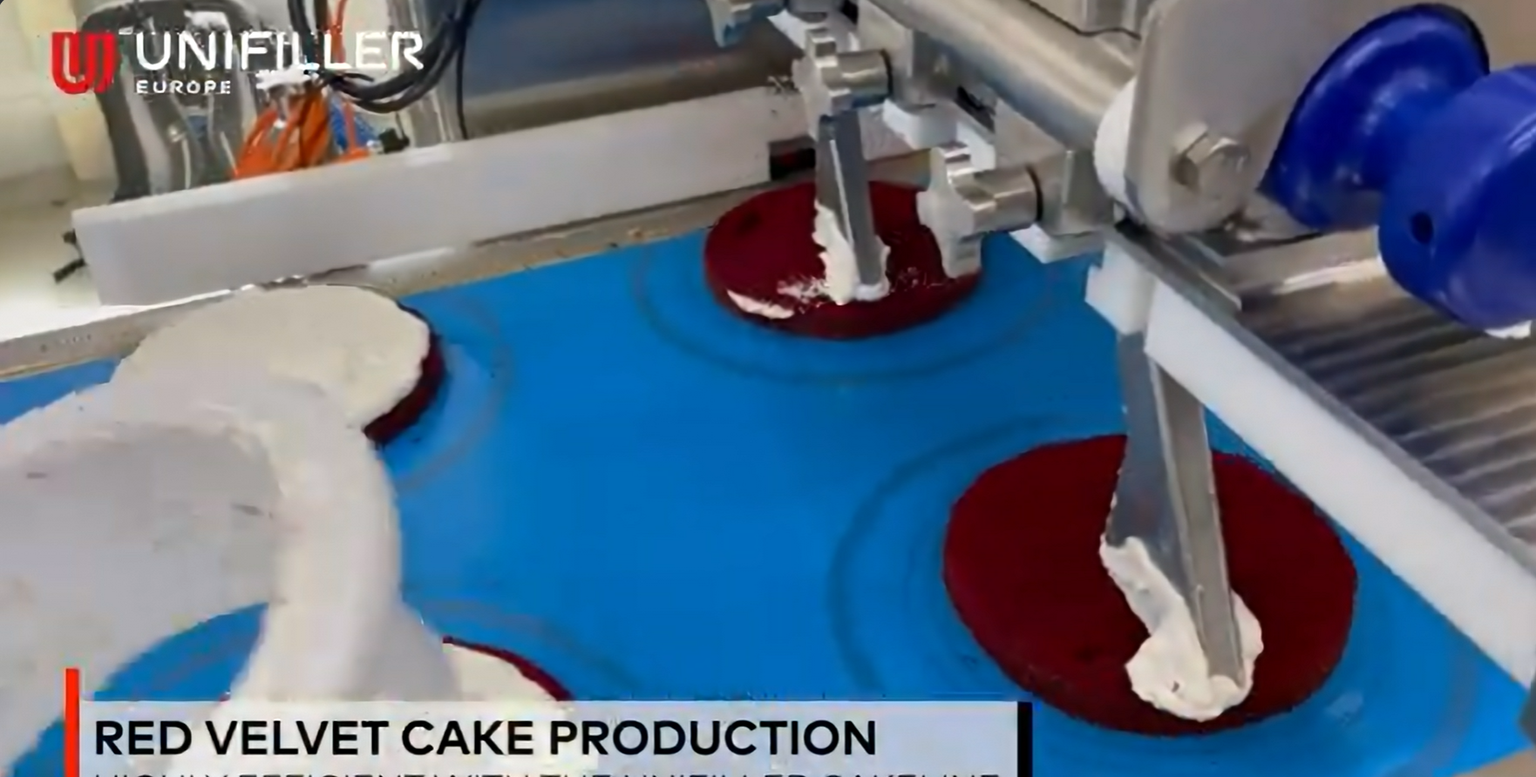Red Velvet: (685, 187, 985, 336)
Whipped Cream: (941, 445, 1365, 739), (108, 273, 440, 441)
